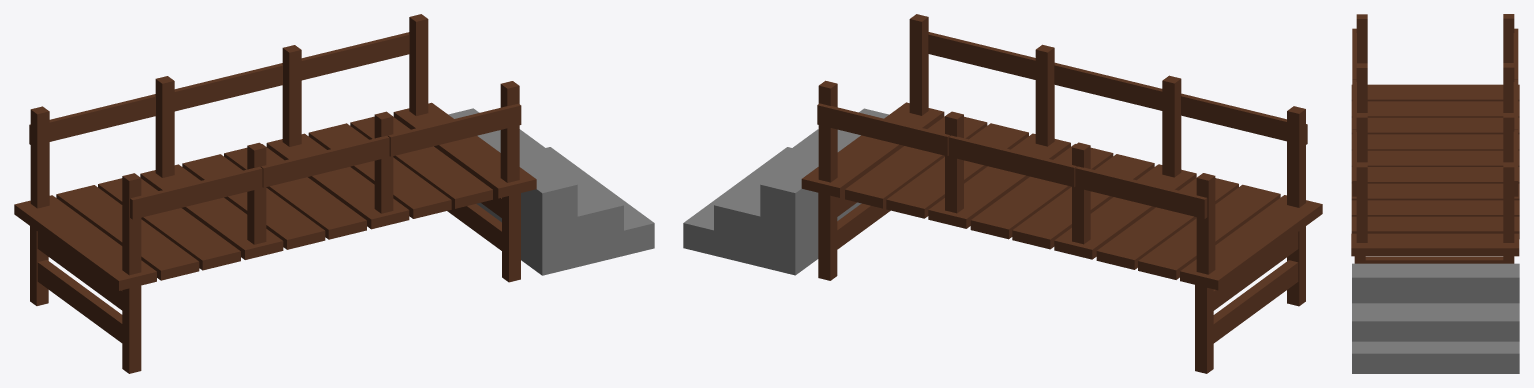
File: escadinhas.fbx
3 views of the same model, side by side, from view 1: azimuth 30°, elevation 25°; view 2: azimuth 150°, elevation 25°; view 3: azimuth 270°, elevation 25° (orthographic). The views are drawn at different scales.
Visible parts, largest first — view 1: Cube.002, meio, Cube.016, Cube; view 2: Cube.002, meio, Cube.016, Cube; view 3: Cube, Cube.016, meio, Cube.002.
Boxes of the visible parts, bbox=[...] form: Cube.002: bbox=[14, 94, 262, 373]; meio: bbox=[140, 45, 409, 259]; Cube.016: bbox=[301, 14, 536, 282]; Cube: bbox=[448, 108, 654, 275]; Cube.002: bbox=[1075, 93, 1322, 373]; meio: bbox=[928, 44, 1196, 259]; Cube.016: bbox=[801, 14, 1035, 280]; Cube: bbox=[683, 108, 888, 275]; Cube: bbox=[1352, 263, 1519, 373]; Cube.016: bbox=[1351, 129, 1519, 263]; meio: bbox=[1351, 63, 1519, 200]; Cube.002: bbox=[1351, 14, 1519, 134].
Bounding box in the file's own units: 3028 × 1041 × 1026.
